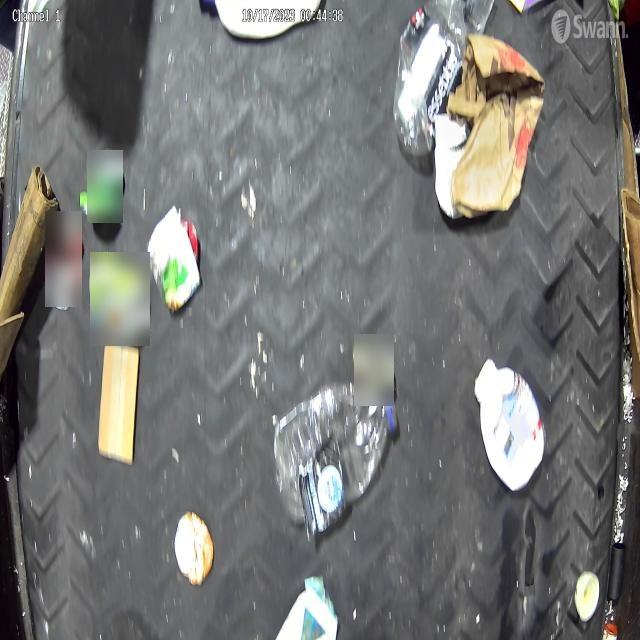plastic_bottle: (272, 380, 398, 540)
